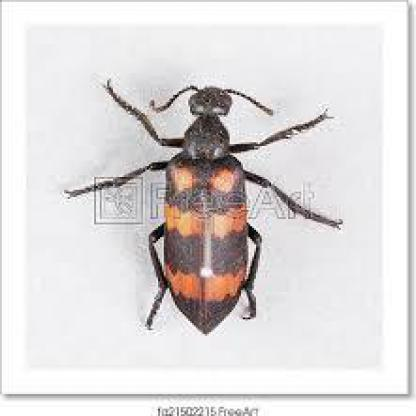blister beetle: (70, 84, 344, 335)
